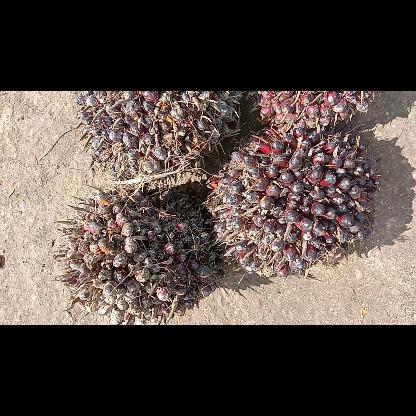Kurang masak: (207, 130, 383, 276), (60, 184, 222, 322), (70, 92, 242, 176), (244, 92, 376, 127)
